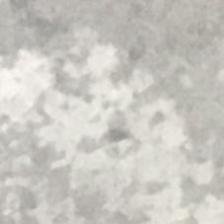Non_Crack: (9, 19, 201, 224)
